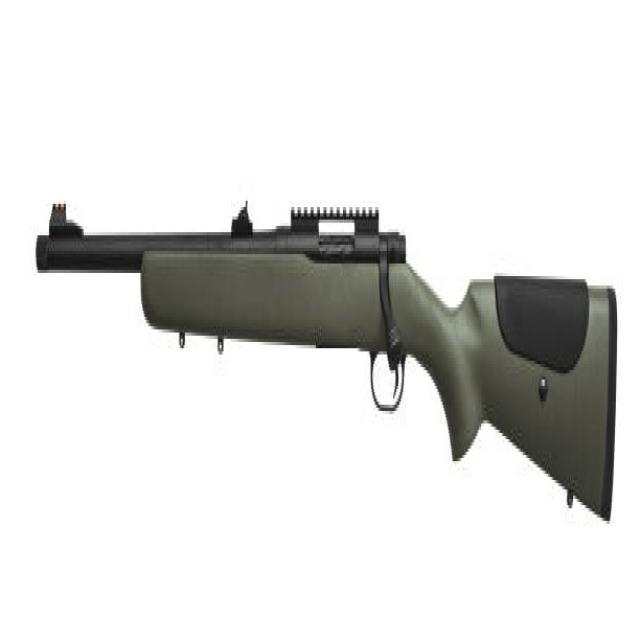rifle: (27, 180, 626, 542)
